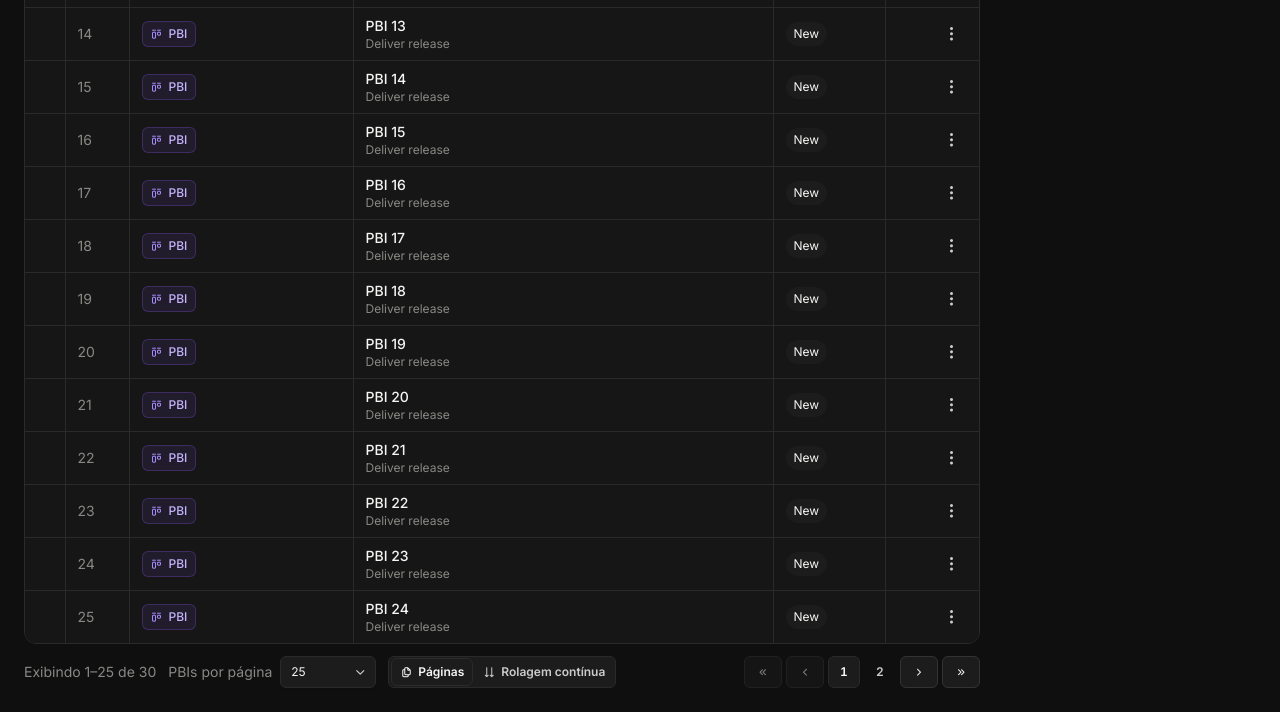
PbiView coverage: rows › paginates root items and changes the page size
(page scrolled)
Expected: the text "Exibindo 1–25 de 30" is shown, [24,662,156,682]
Expected: the button named "Página anterior" is disabled, [786,656,824,688]
Click the button named "Próxima página": (919, 672) [900,656,938,688]
(page scrolled)
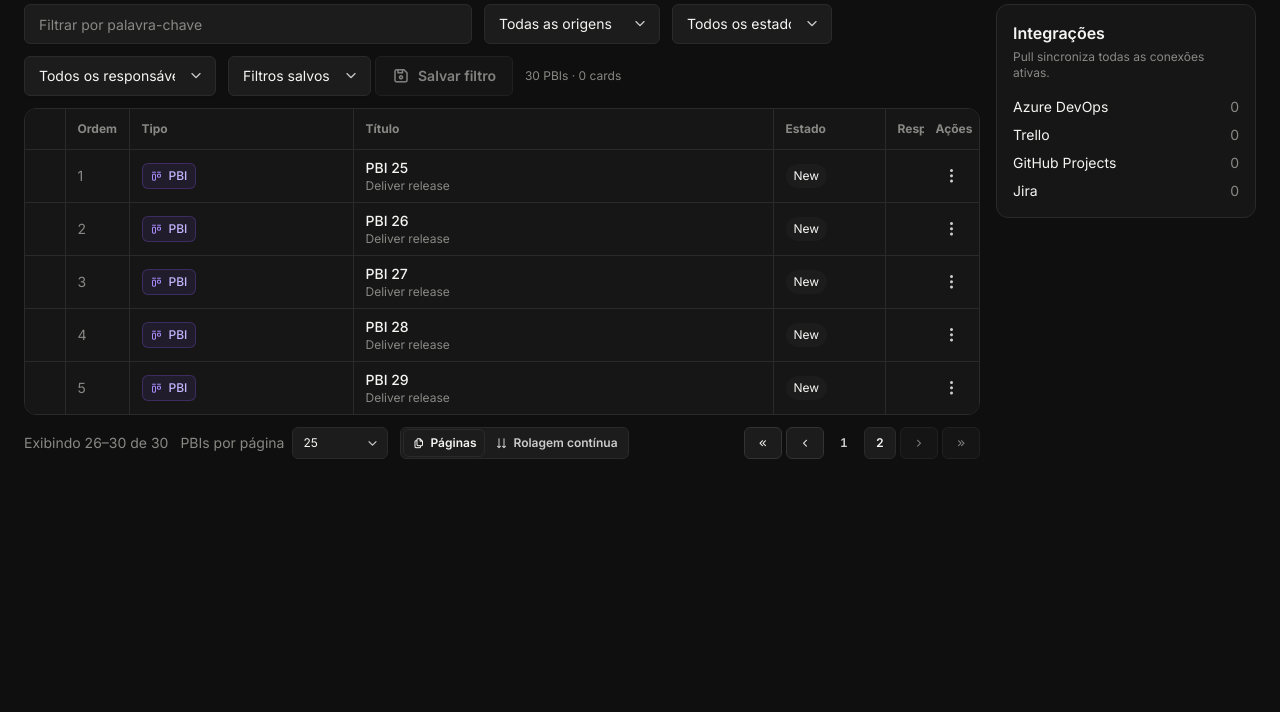
Expected: the button "PBI 29" is shown, [366,370,760,390]
Click the button named "Página anterior": (805, 443) [786,427,824,459]
(page scrolled)
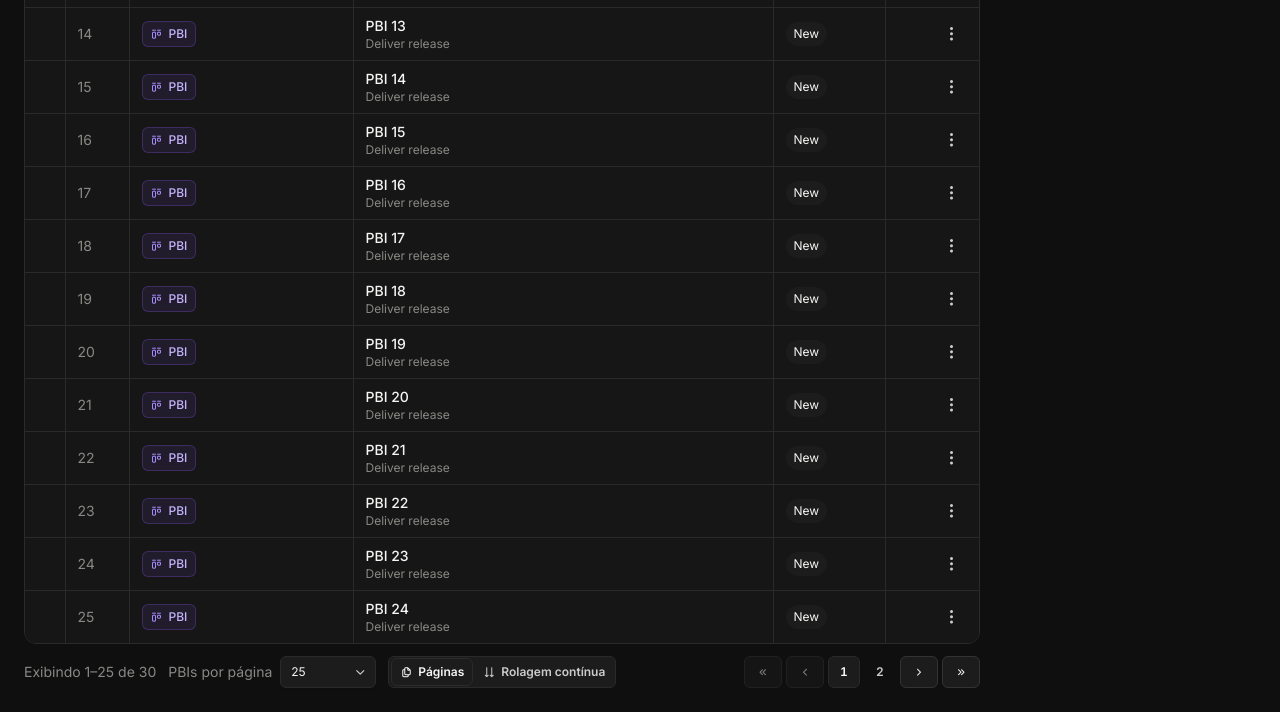
Select "50" in the dropdown labelled "PBIs por página": (328, 672) [280,656,376,688]
(page scrolled)
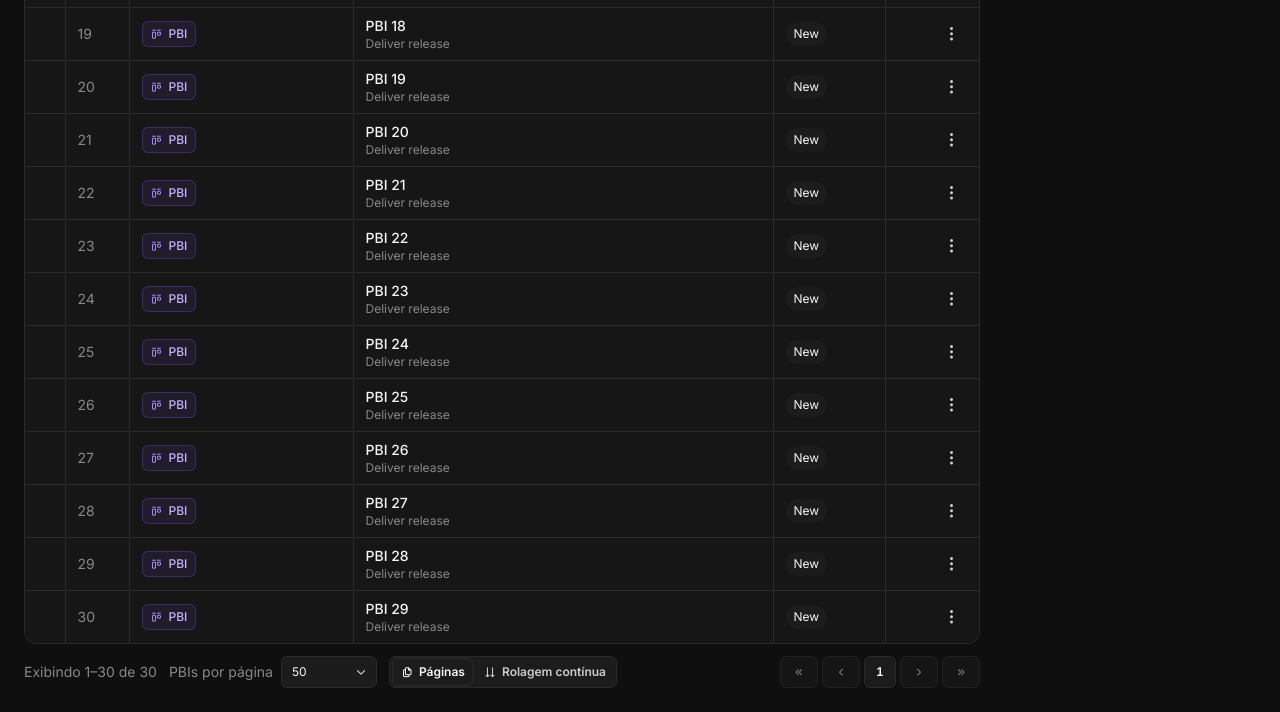
Expected: the button "PBI 29" is shown, [366,599,760,619]
